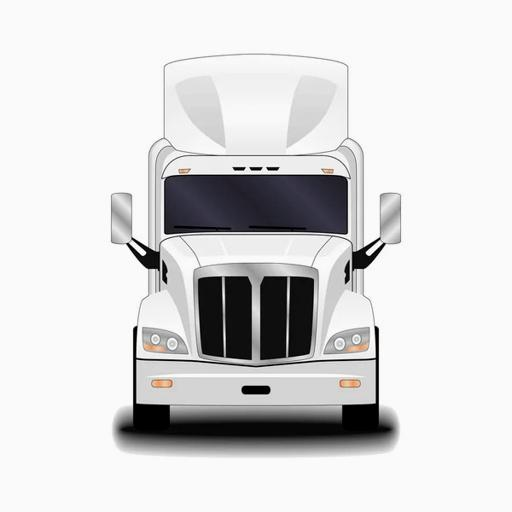truck: (109, 51, 405, 442)
